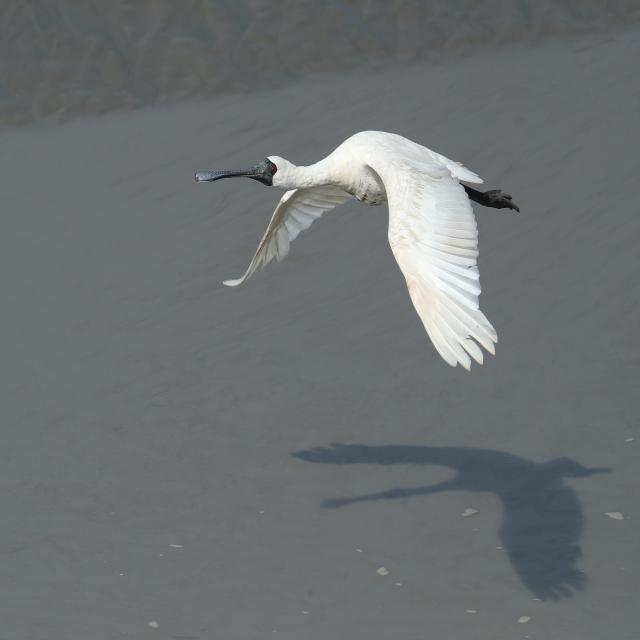Black-faced spoonbill: (196, 132, 519, 369)
